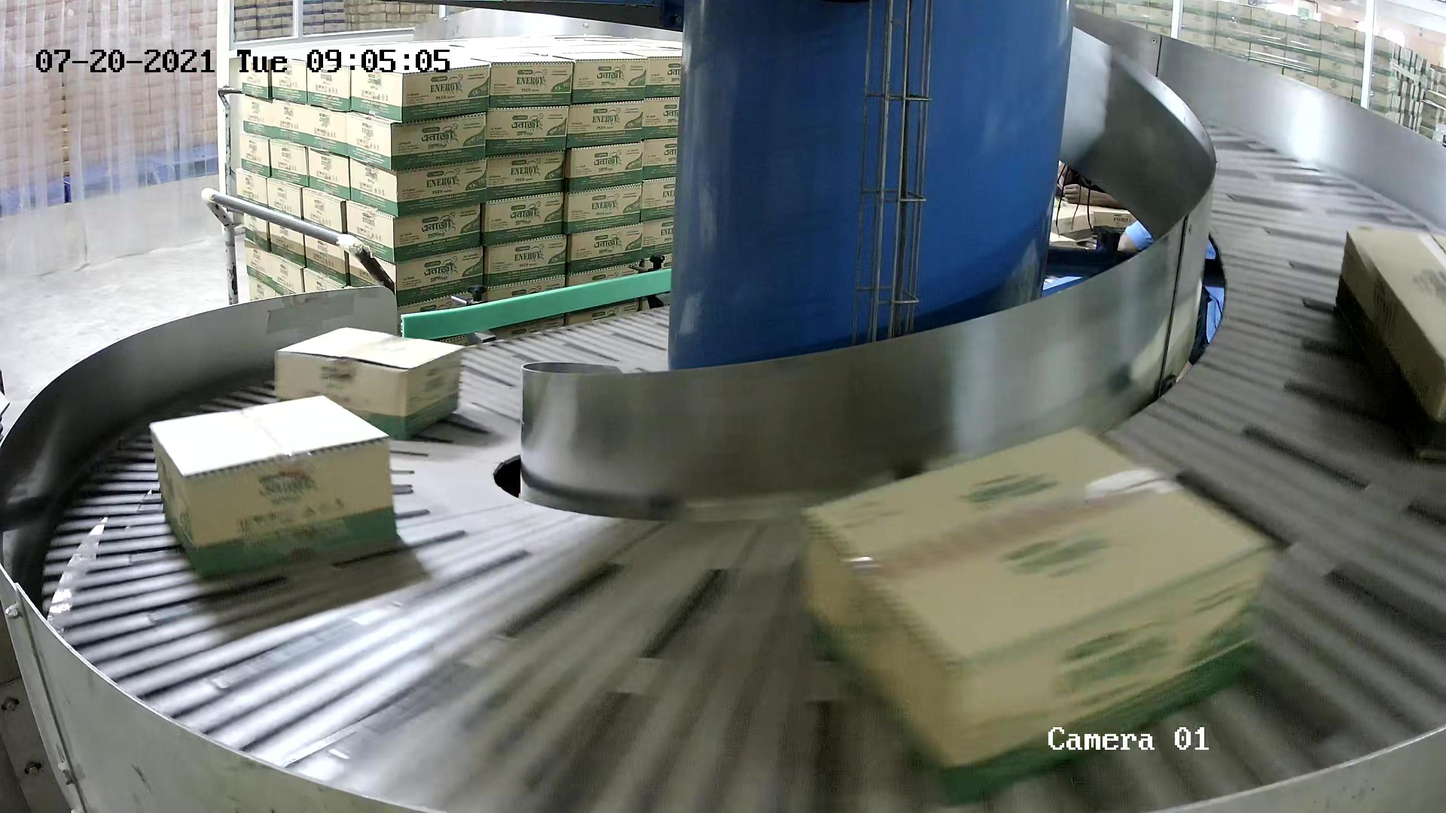Box: (796, 419, 1274, 808), (150, 393, 400, 580), (1334, 227, 1446, 472), (274, 325, 465, 441)
